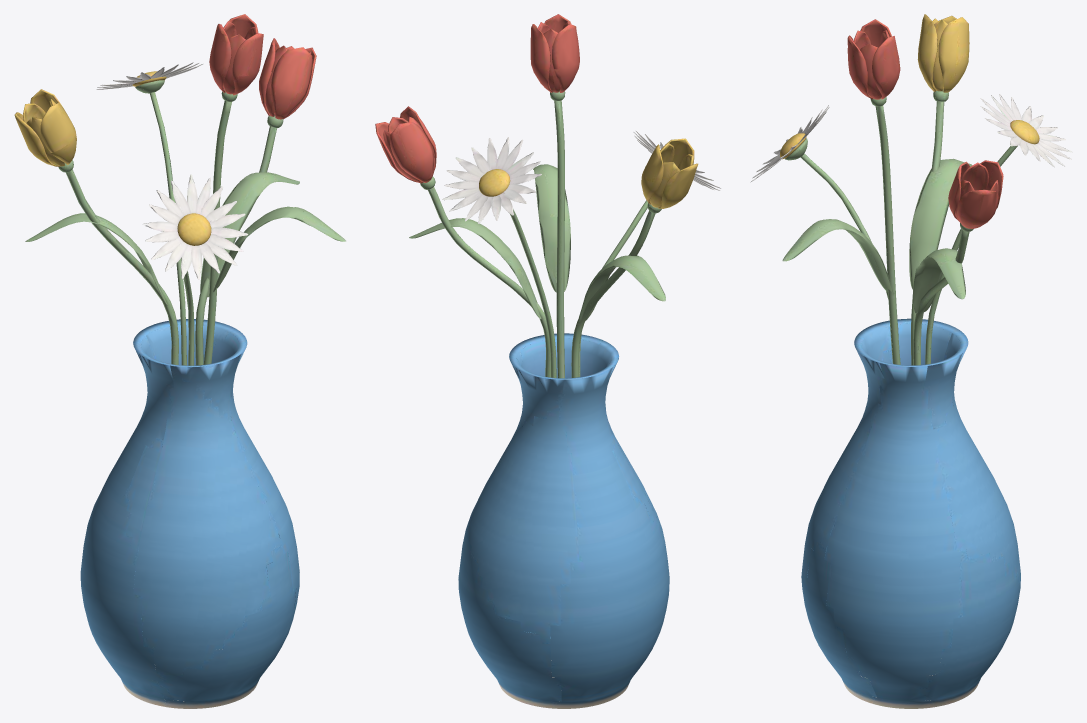
The model's file is vase-light.glb.
3 views of the same model, side by side, from view 1: azimuth 30°, elevation 25°; view 2: azimuth 150°, elevation 25°; view 3: azimuth 270°, elevation 25° (orthographic). The views are drawn at different scales.
Visible parts, largest first — view 1: vase_body; view 2: vase_body; view 3: vase_body.
Part boxes in pixels (x1,y1,x2,y2): vase_body: (14, 14, 345, 708); vase_body: (375, 14, 720, 708); vase_body: (751, 14, 1072, 708).
Size of the model in its own units: 0.2431 by 0.4939 by 0.2157.
Materials: 1 (1 with a texture image).
